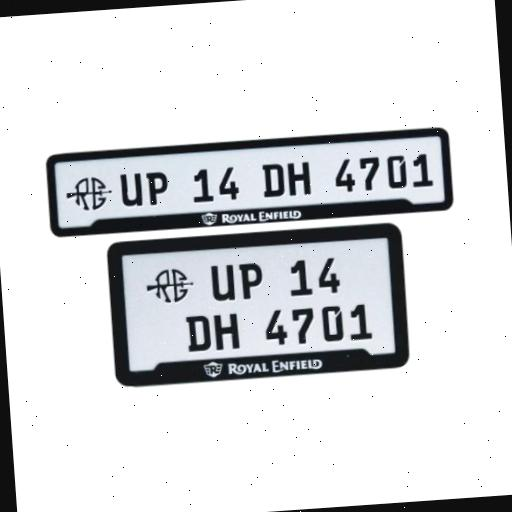number plate: (110, 230, 402, 381), (49, 136, 448, 236)
